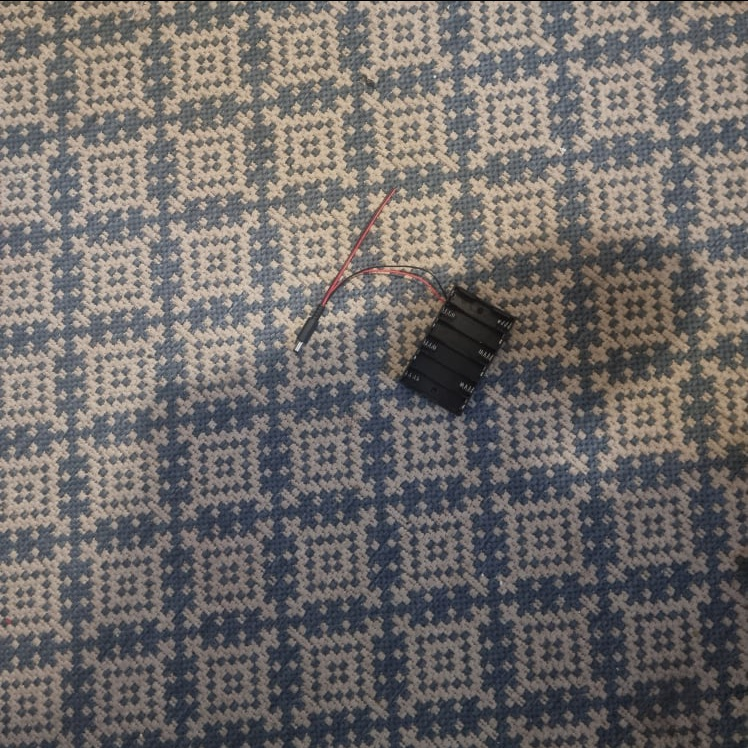BATTERY BOX: (400, 284, 518, 417)
